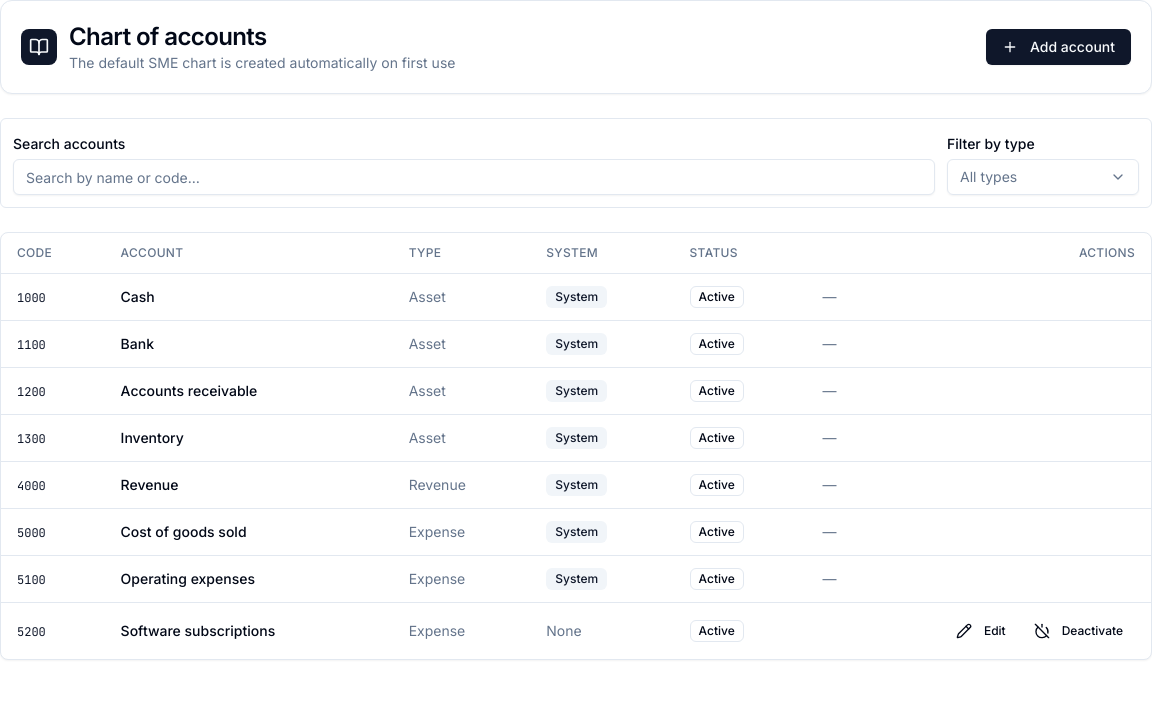
ChartOfAccountsView — Add Account form (ACC-5/ACC-16) › rejects a technical system key as the account name
The image size is (1152, 720).
# The form is collapsed on load (table is the primary focus) — expand it.
Click the button "Add account" at (1058, 47), box [986, 29, 1131, 65]
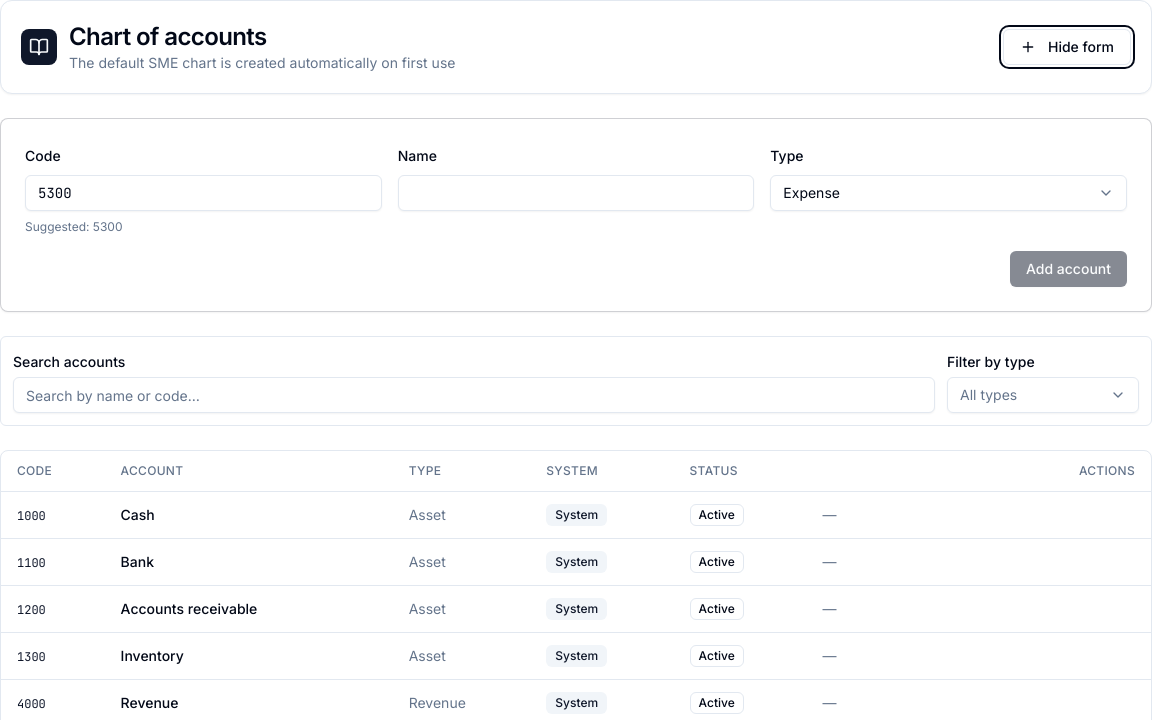
Type "coa.bank" into the field labelled "Name" at (576, 193), box [398, 175, 754, 211]
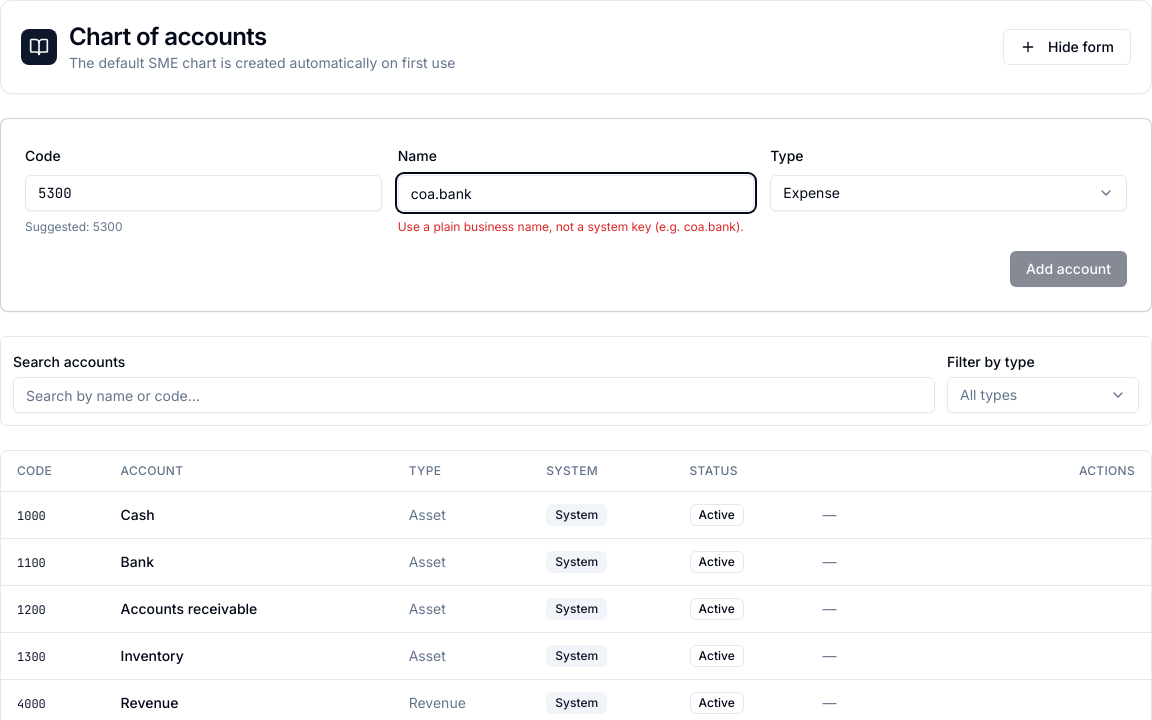
Expected: the button "Add account" is disabled, [1010, 251, 1127, 287]
Result: the text "Use a plain business name, not a system key (e.g. coa.bank)." is shown at [398, 219, 754, 235]
